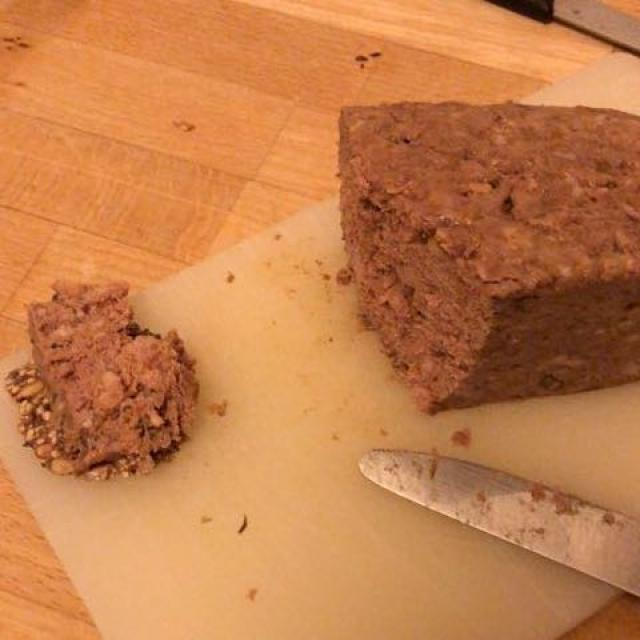meat-terrine-pate: (43, 104, 635, 445)
mixed-seeds: (15, 366, 68, 466)
